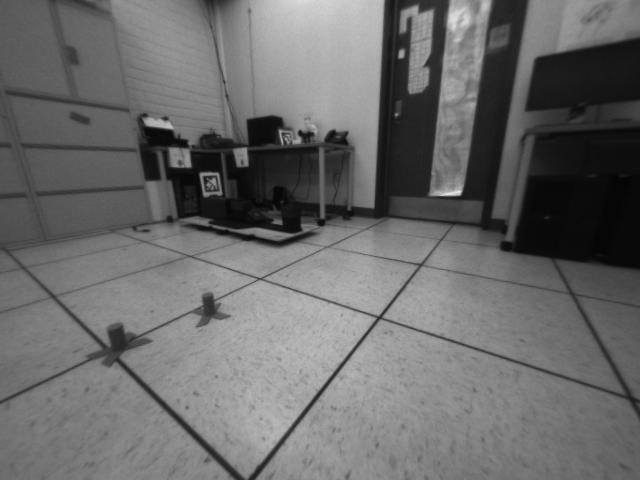X: (85, 321, 153, 366), (188, 288, 232, 328)
